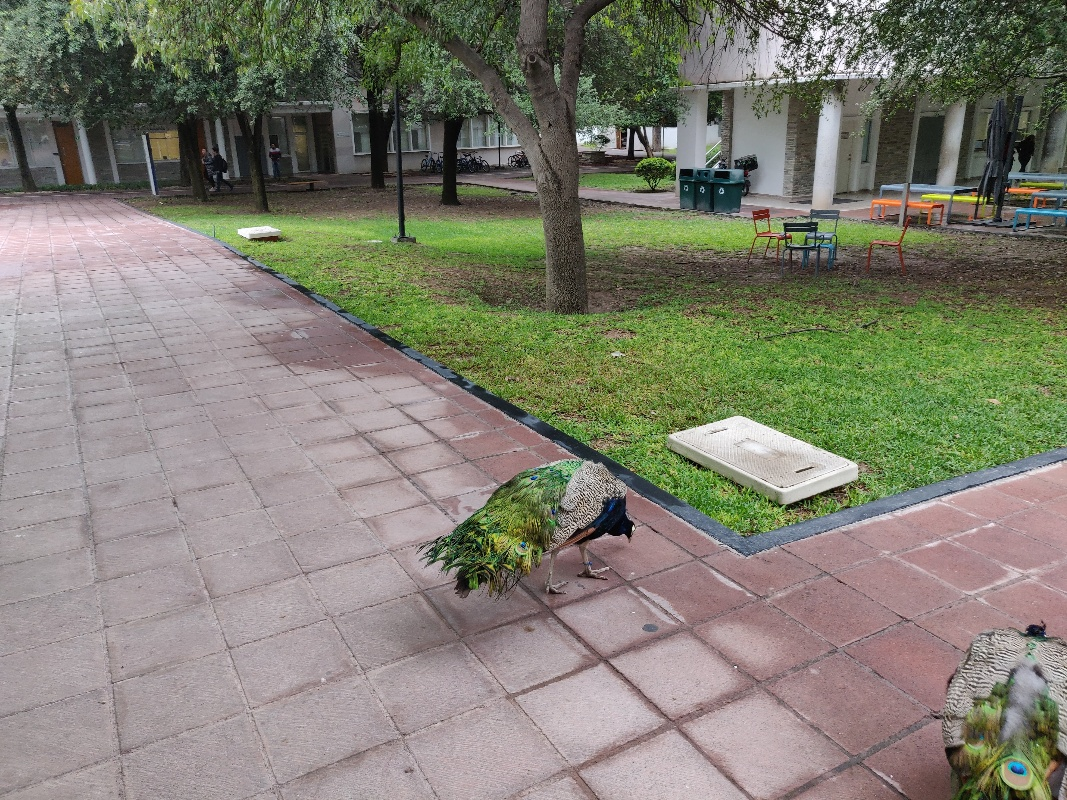pavoreal: (439, 461, 634, 602)
